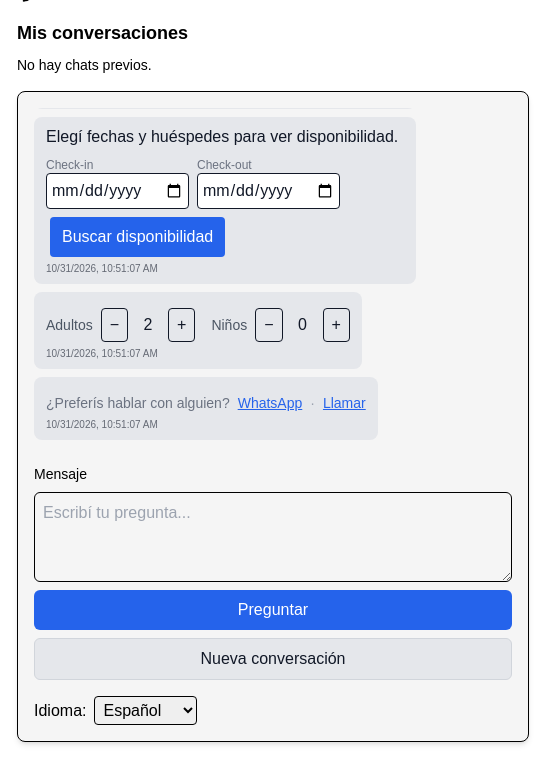
ChatPage • language changes affect API payload › selects English and sends, backend receives lang=en
(page scrolled)
# Change language to English (select under the form footer)
Select "Inglés" in the dropdown at (146, 710), box [94, 696, 198, 725]
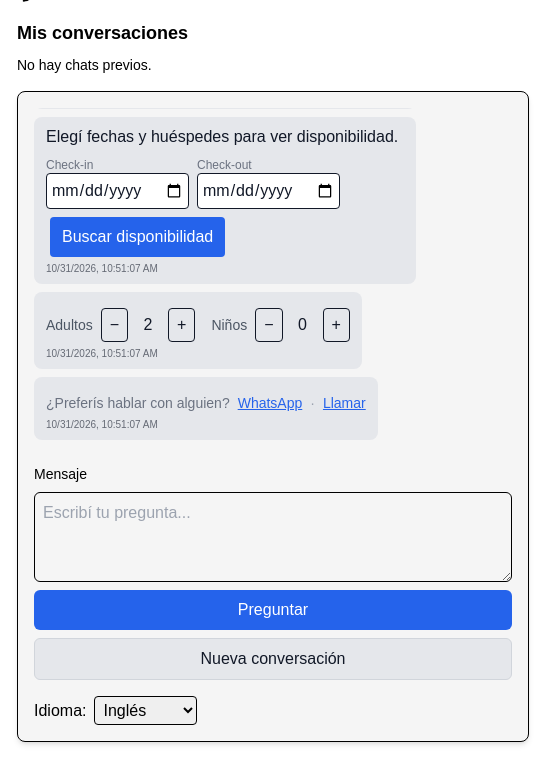
Type "hello" into the text box labelled "Mensaje" at (273, 537), box [34, 492, 512, 582]
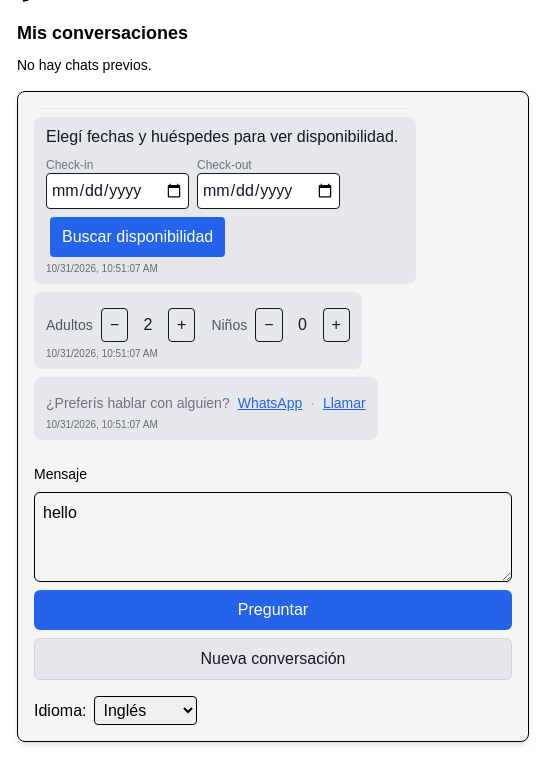
Click the button "Preguntar" at (273, 610), box [34, 590, 512, 630]
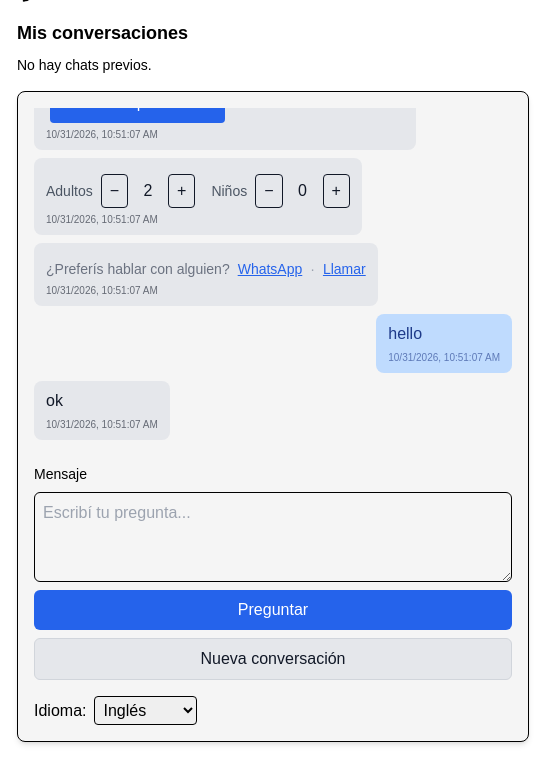
Expected: the text "ok" is shown, [46, 392, 63, 409]
